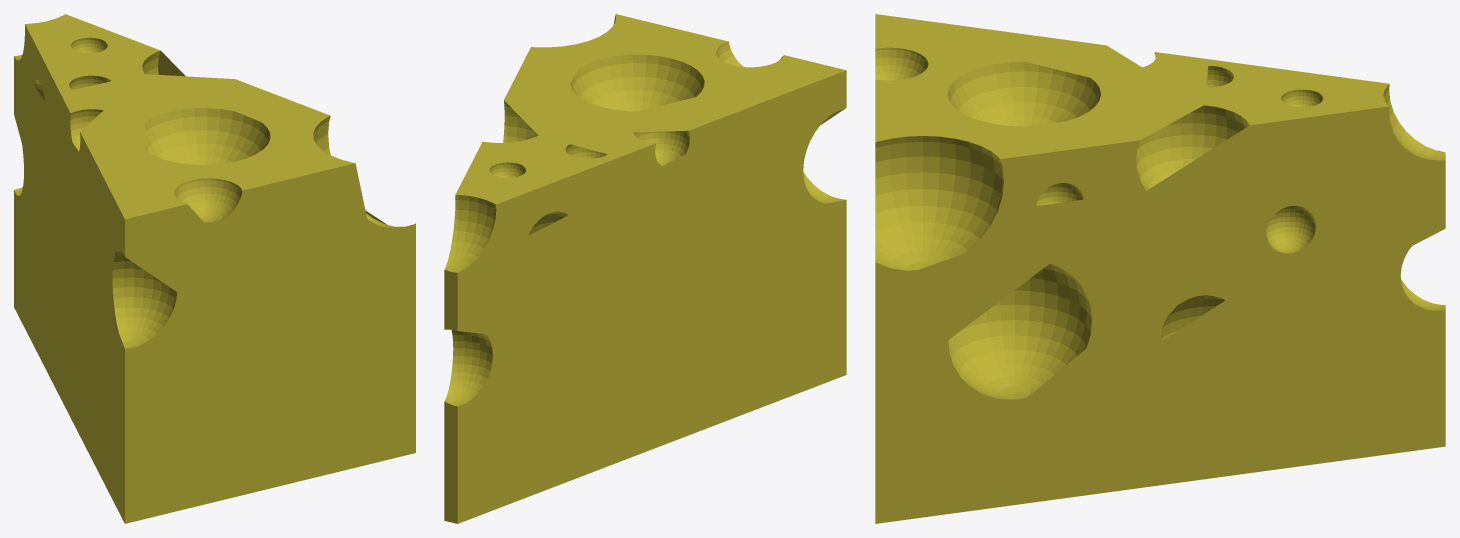
Rendered from Cheese.fbx.
3 renders of one model, left to right at view 1: azimuth 30°, elevation 25°; view 2: azimuth 150°, elevation 25°; view 3: azimuth 270°, elevation 25°, orthographic. The views are drawn at different scales.
Visible parts, largest first — view 1: Cube; view 2: Cube; view 3: Cube.
Boxes of the visible parts, left/top/right/bottom form: Cube: left=14, top=14, right=415, bottom=523; Cube: left=444, top=14, right=846, bottom=523; Cube: left=875, top=14, right=1445, bottom=523.
Bounding box in the file's own units: 200 × 200 × 297.
